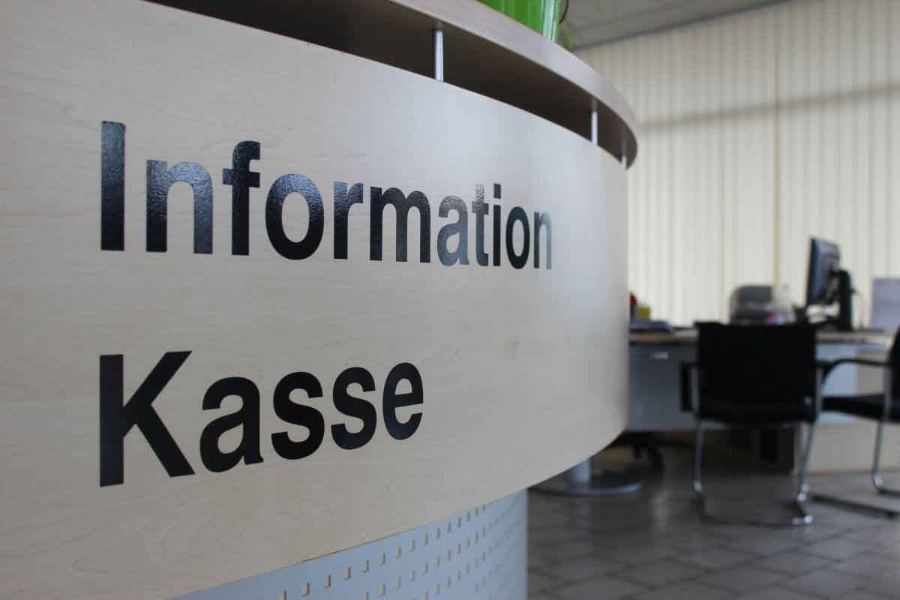text: (97, 110, 112, 273), (113, 110, 128, 273), (129, 110, 144, 273), (145, 110, 160, 273), (161, 110, 176, 273), (177, 110, 192, 273), (193, 110, 208, 273), (209, 110, 224, 273), (225, 110, 240, 273), (241, 110, 256, 273), (257, 110, 272, 273), (273, 110, 288, 273), (289, 110, 304, 273), (305, 110, 320, 273), (321, 110, 336, 273), (337, 110, 352, 273), (353, 110, 368, 273), (369, 110, 384, 273), (385, 110, 400, 273), (401, 110, 416, 273), (417, 110, 432, 273), (433, 110, 448, 273), (449, 110, 464, 273), (465, 110, 480, 273), (481, 110, 496, 273), (497, 110, 512, 273), (513, 110, 528, 273), (529, 110, 544, 273), (97, 337, 112, 496), (113, 337, 128, 496), (129, 337, 144, 496), (145, 337, 160, 496), (161, 337, 176, 496), (177, 337, 192, 496), (193, 337, 208, 496), (209, 337, 224, 496), (225, 337, 240, 496), (241, 337, 256, 496), (257, 337, 272, 496), (273, 337, 288, 496), (289, 337, 304, 496), (305, 337, 320, 496), (321, 337, 336, 496), (337, 337, 352, 496), (353, 337, 368, 496), (369, 337, 384, 496), (385, 337, 400, 496), (401, 337, 416, 496), (545, 110, 557, 273), (417, 337, 427, 496), (95, 110, 96, 273)
